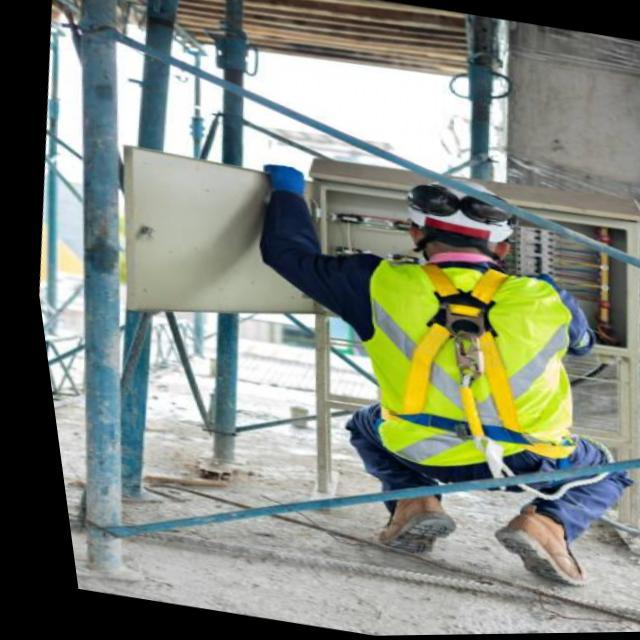belt: (330, 248, 604, 510)
